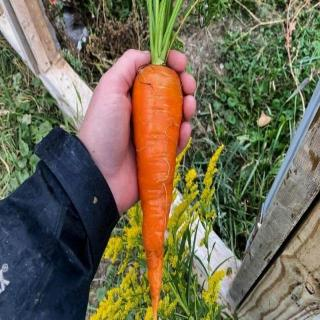carrot: (130, 62, 184, 320)
